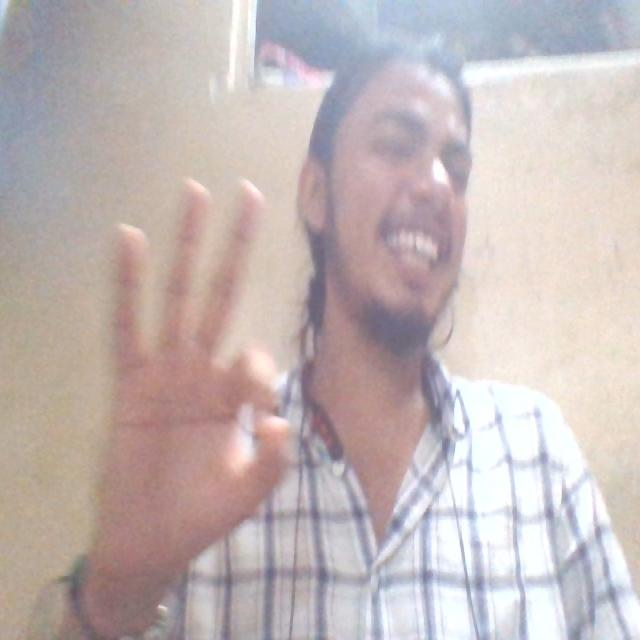Please: (75, 155, 309, 548)
